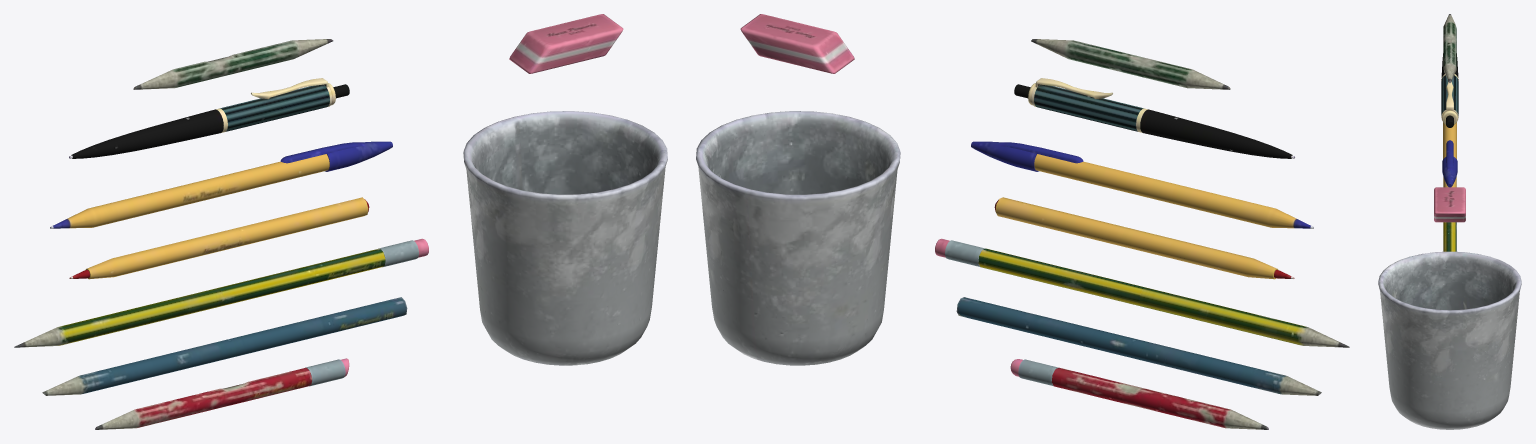
The model's file is stationery_supplies_1k.gltf.
3 views of the same model, side by side, from view 1: azimuth 30°, elevation 25°; view 2: azimuth 150°, elevation 25°; view 3: azimuth 270°, elevation 25° (orthographic). The views are drawn at different scales.
Parts seen in each view (by area): view 1: stationery_supplies_pencilcup, stationery_supplies_pencil_new_a, stationery_supplies_pencil_new_b, stationery_supplies_pen_blue, stationery_supplies_pen_fancy, stationery_supplies_pen_red, stationery_supplies_pencil_used, stationery_supplies_eraser, stationery_supplies_pencil_old; view 2: stationery_supplies_pencilcup, stationery_supplies_pencil_new_a, stationery_supplies_pencil_new_b, stationery_supplies_pen_blue, stationery_supplies_pen_fancy, stationery_supplies_pen_red, stationery_supplies_pencil_used, stationery_supplies_eraser, stationery_supplies_pencil_old; view 3: stationery_supplies_pencilcup, stationery_supplies_eraser, stationery_supplies_pen_fancy, stationery_supplies_pen_blue, stationery_supplies_pencil_old, stationery_supplies_pencil_new_a.
Boxes of the visible parts, left/top/right/bottom form: stationery_supplies_pencilcup: left=463, top=111, right=667, bottom=365; stationery_supplies_pencil_new_a: left=14, top=238, right=428, bottom=347; stationery_supplies_pencil_new_b: left=42, top=297, right=407, bottom=395; stationery_supplies_pen_blue: left=50, top=141, right=392, bottom=228; stationery_supplies_pen_fancy: left=69, top=78, right=349, bottom=158; stationery_supplies_pen_red: left=69, top=197, right=369, bottom=279; stationery_supplies_pencil_used: left=95, top=358, right=349, bottom=429; stationery_supplies_eraser: left=509, top=14, right=623, bottom=73; stationery_supplies_pencil_old: left=133, top=39, right=333, bottom=89; stationery_supplies_pencilcup: left=696, top=111, right=900, bottom=365; stationery_supplies_pencil_new_a: left=935, top=238, right=1349, bottom=347; stationery_supplies_pencil_new_b: left=956, top=297, right=1321, bottom=395; stationery_supplies_pen_blue: left=971, top=141, right=1313, bottom=228; stationery_supplies_pen_fancy: left=1014, top=78, right=1294, bottom=158; stationery_supplies_pen_red: left=994, top=197, right=1294, bottom=279; stationery_supplies_pencil_used: left=1010, top=359, right=1268, bottom=429; stationery_supplies_eraser: left=740, top=14, right=854, bottom=73; stationery_supplies_pencil_old: left=1031, top=39, right=1230, bottom=89; stationery_supplies_pencilcup: left=1378, top=251, right=1521, bottom=429; stationery_supplies_eraser: left=1434, top=187, right=1465, bottom=222; stationery_supplies_pen_fancy: left=1441, top=53, right=1458, bottom=127; stationery_supplies_pen_blue: left=1442, top=122, right=1457, bottom=187; stationery_supplies_pencil_old: left=1443, top=14, right=1456, bottom=82; stationery_supplies_pencil_new_a: left=1443, top=222, right=1456, bottom=251.
Bounding box in the file's own units: 0.3019 × 0.1643 × 0.0837.
1 material, 1 textured.
